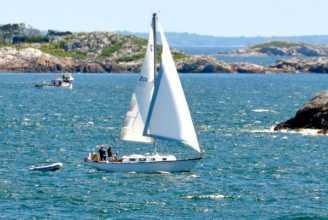fanchuan: (92, 10, 207, 169)
